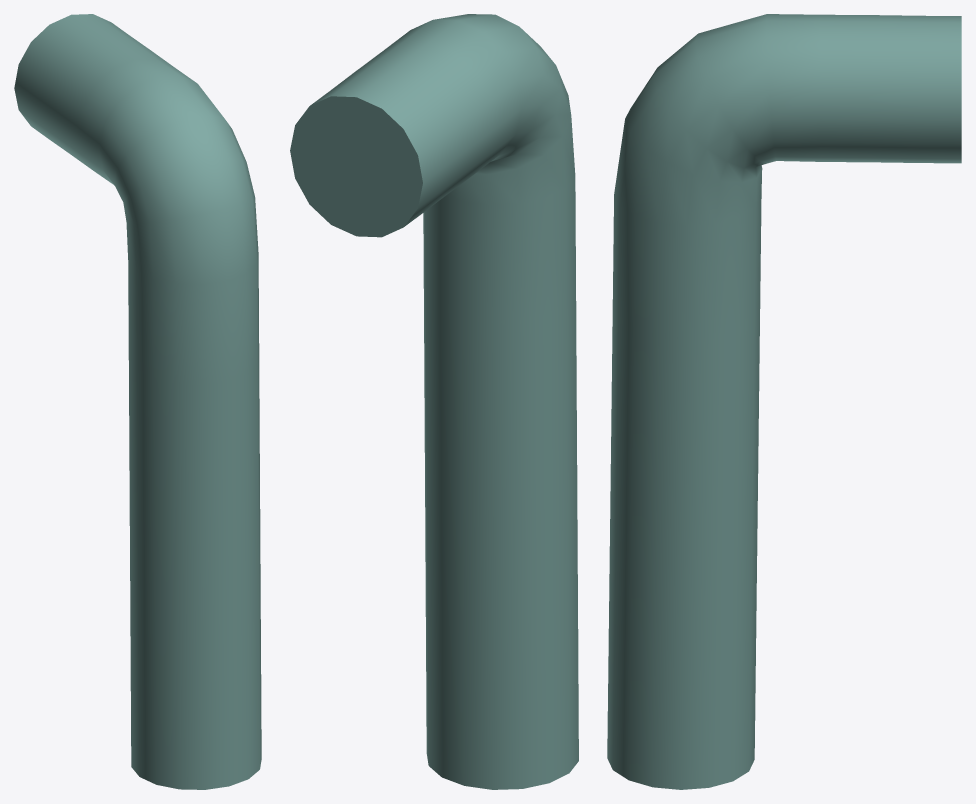
Rendered from pipe curved.fbx.
3 views of the same model, side by side, from view 1: azimuth 30°, elevation 25°; view 2: azimuth 150°, elevation 25°; view 3: azimuth 270°, elevation 25° (orthographic). The views are drawn at different scales.
Parts seen in each view (by area): view 1: pipe curved; view 2: pipe curved; view 3: pipe curved.
Boxes of the visible parts, <box> form: pipe curved: <box>14,14,261,789</box>; pipe curved: <box>290,14,578,789</box>; pipe curved: <box>607,14,961,789</box>.
Bounding box in the file's own units: 423 × 2339 × 1017.
